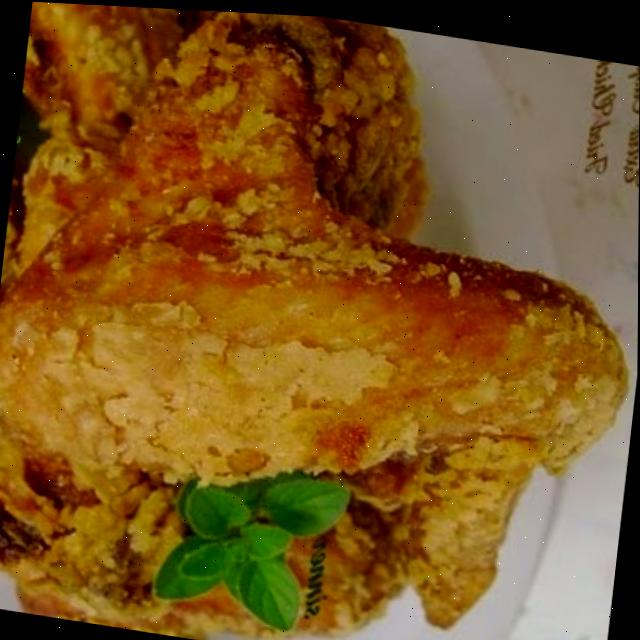鸡肉料理 含炸鸡: (0, 17, 602, 631)
